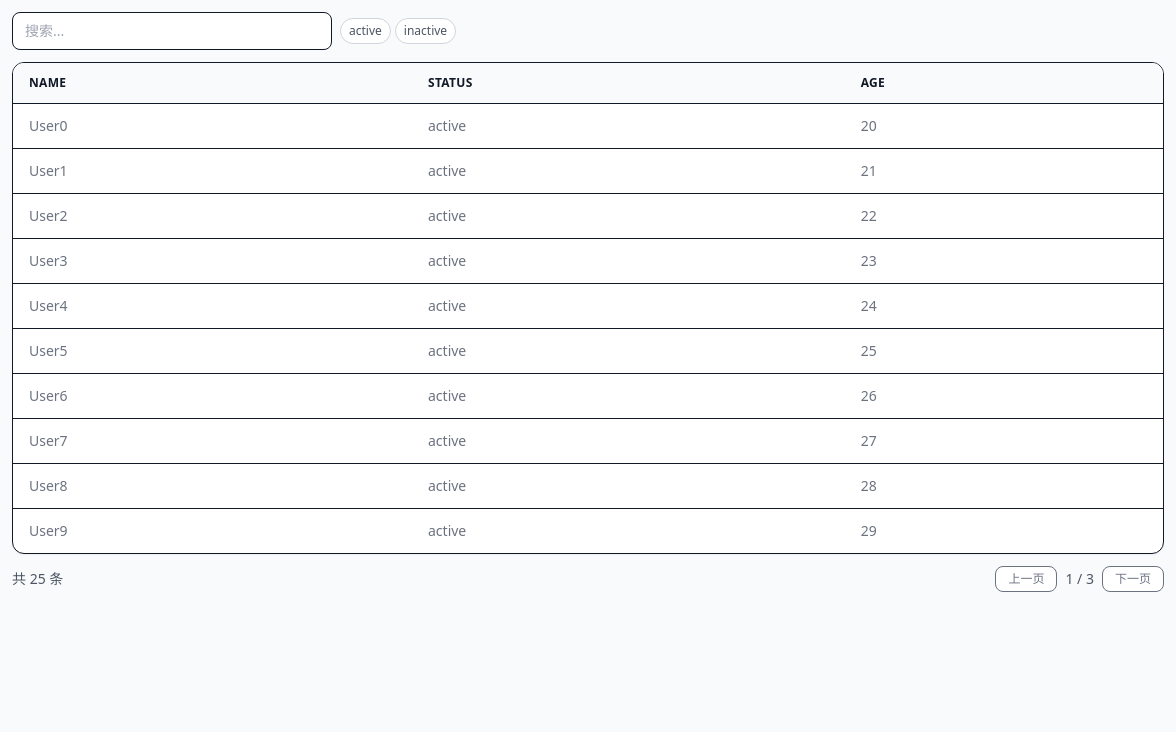
Test: DataTable › paginates
Check: the text "User0" is shown, box [13,104,412,148]
Check: the text "User10" is not shown
Click the button "下一页". click: (1133, 579)
box: [1102,566,1164,592]
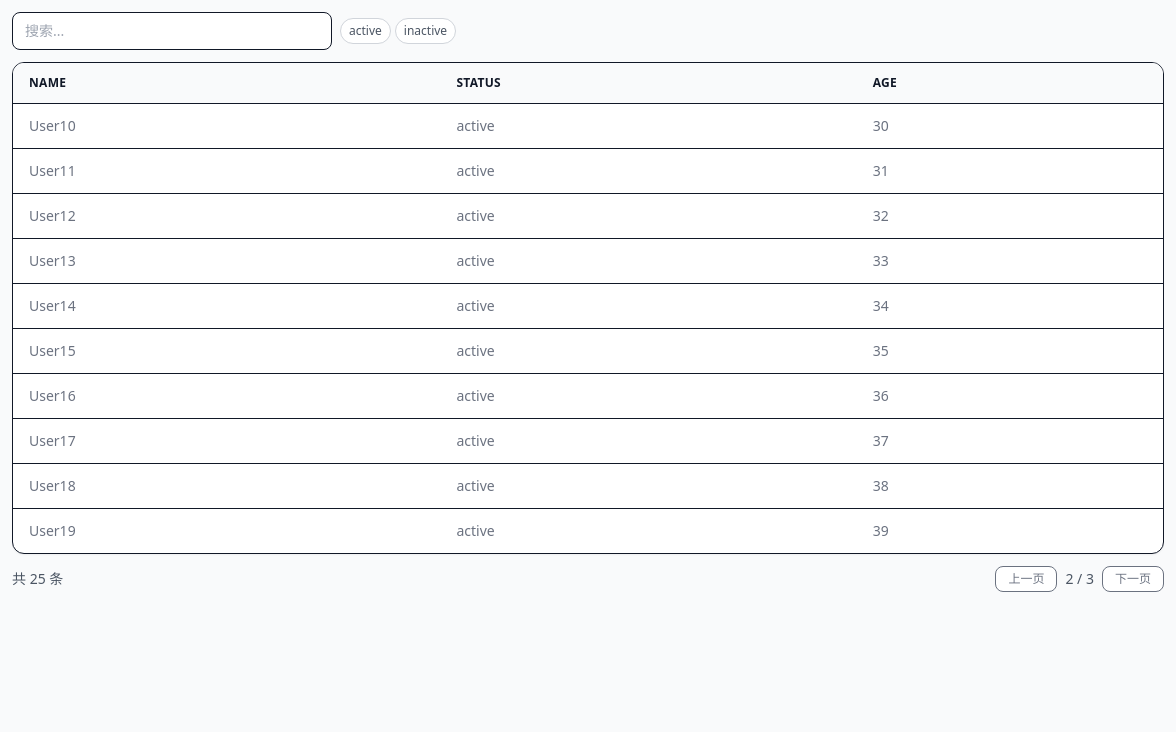
Check: the text "User10" is shown, box [13,104,440,148]
